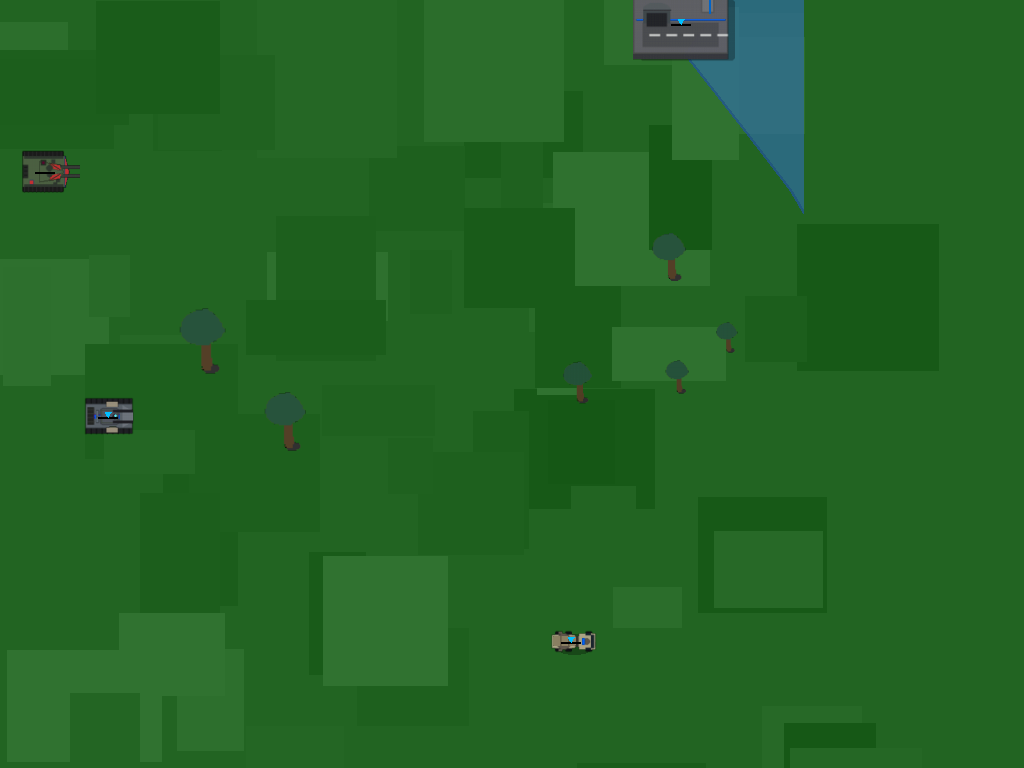APC_rus: (85, 393, 131, 439)
Airfield: (634, 0, 728, 94)
HIMARS: (548, 618, 594, 664)
Lake: (685, 0, 804, 283)
Type99: (20, 146, 70, 196)
